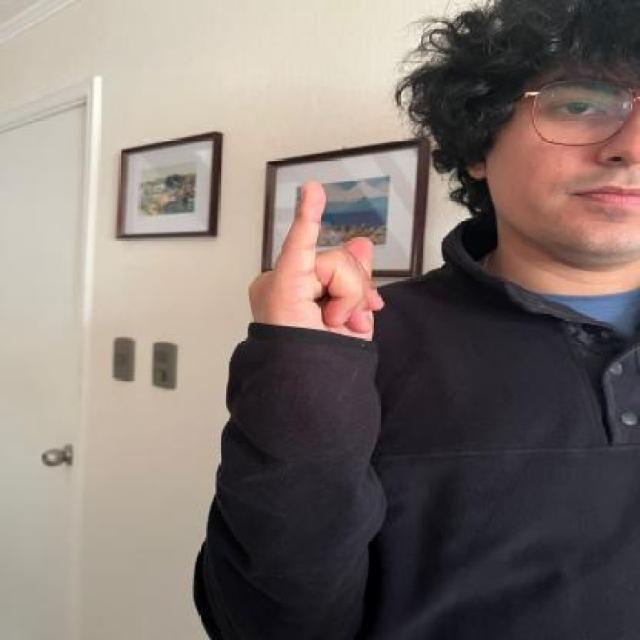I: (234, 172, 392, 386)
